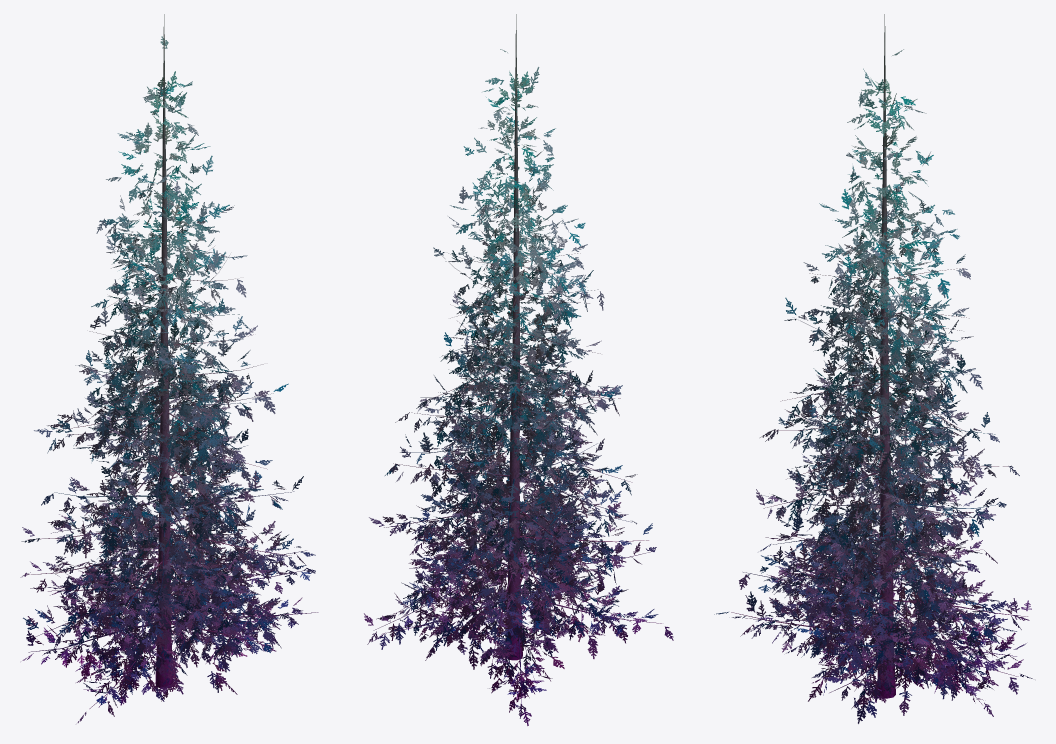
3 renders of one model, left to right at view 1: azimuth 30°, elevation 25°; view 2: azimuth 150°, elevation 25°; view 3: azimuth 270°, elevation 25°, orthographic. The views are drawn at different scales.
Visible parts, largest first — view 1: blue_spruce_LOD1; view 2: blue_spruce_LOD1; view 3: blue_spruce_LOD1.
Part boxes in pixels (<box>): blue_spruce_LOD1: <box>20,14,318,722</box>; blue_spruce_LOD1: <box>364,14,673,725</box>; blue_spruce_LOD1: <box>714,14,1032,723</box>.
Size of the model in its own units: 10.14 by 23.91 by 10.32.
2 materials, 2 textured.
